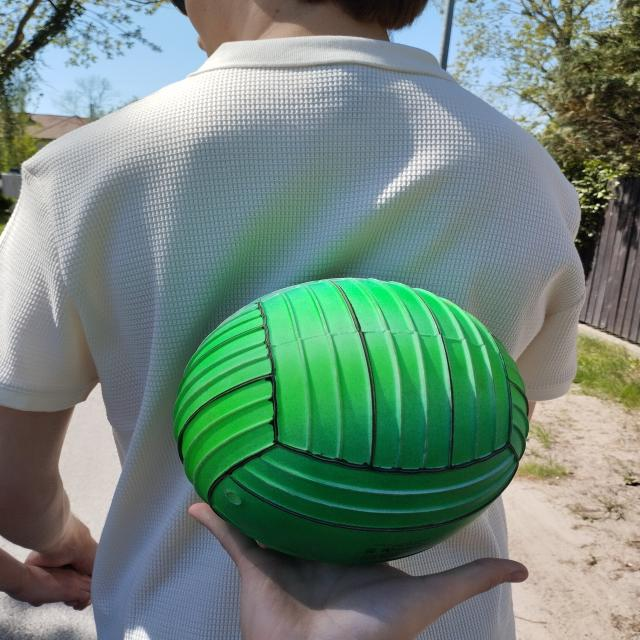zielona: (174, 278, 528, 561)
